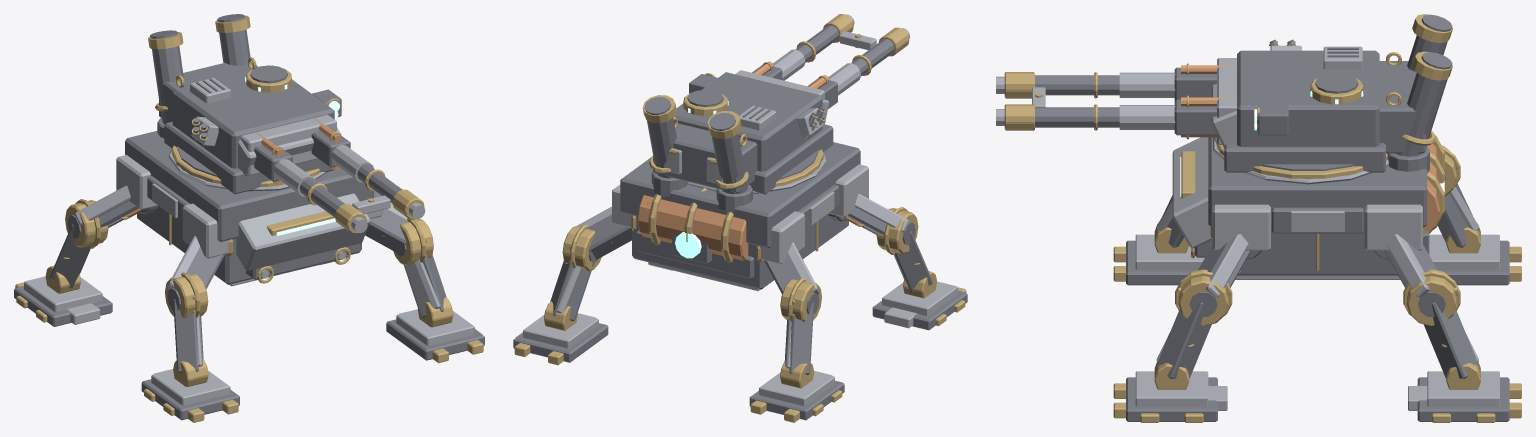
File: gearforge_medium_quad_walker.glb
The picture shows the model from 3 angles, left to right: view 1: azimuth 30°, elevation 25°; view 2: azimuth 150°, elevation 25°; view 3: azimuth 270°, elevation 25°; orthographic projection. The views are drawn at different scales.
Visible parts, largest first — view 1: gearforge_medium_quad_walker_hull_lod0, gearforge_medium_quad_walker_turret_lod0, gearforge_medium_quad_walker_leg_fl_lod0, gearforge_medium_quad_walker_leg_fr_lod0, gearforge_medium_quad_walker_leg_rl_lod0; view 2: gearforge_medium_quad_walker_hull_lod0, gearforge_medium_quad_walker_turret_lod0, gearforge_medium_quad_walker_leg_rr_lod0, gearforge_medium_quad_walker_leg_rl_lod0, gearforge_medium_quad_walker_leg_fl_lod0; view 3: gearforge_medium_quad_walker_turret_lod0, gearforge_medium_quad_walker_hull_lod0, gearforge_medium_quad_walker_leg_fr_lod0, gearforge_medium_quad_walker_leg_rr_lod0, gearforge_medium_quad_walker_leg_rl_lod0, gearforge_medium_quad_walker_leg_fl_lod0.
Part boxes in pixels (<box>): gearforge_medium_quad_walker_hull_lod0: <box>116,14,382,286</box>; gearforge_medium_quad_walker_turret_lod0: <box>159,62,425,233</box>; gearforge_medium_quad_walker_leg_fl_lod0: <box>141,236,239,422</box>; gearforge_medium_quad_walker_leg_fr_lod0: <box>365,203,484,363</box>; gearforge_medium_quad_walker_leg_rl_lod0: <box>14,185,158,326</box>; gearforge_medium_quad_walker_hull_lod0: <box>612,34,868,290</box>; gearforge_medium_quad_walker_turret_lod0: <box>653,14,909,194</box>; gearforge_medium_quad_walker_leg_rr_lod0: <box>513,206,636,365</box>; gearforge_medium_quad_walker_leg_rl_lod0: <box>749,242,844,422</box>; gearforge_medium_quad_walker_leg_fl_lod0: <box>828,194,967,330</box>; gearforge_medium_quad_walker_turret_lod0: <box>996,39,1425,182</box>; gearforge_medium_quad_walker_hull_lod0: <box>1035,14,1452,279</box>; gearforge_medium_quad_walker_leg_fr_lod0: <box>1113,227,1262,422</box>; gearforge_medium_quad_walker_leg_rr_lod0: <box>1373,227,1521,422</box>; gearforge_medium_quad_walker_leg_rl_lod0: <box>1429,145,1521,285</box>; gearforge_medium_quad_walker_leg_fl_lod0: <box>1113,195,1204,285</box>.
Size of the model in its own units: 6.5 by 5.23 by 8.3.
